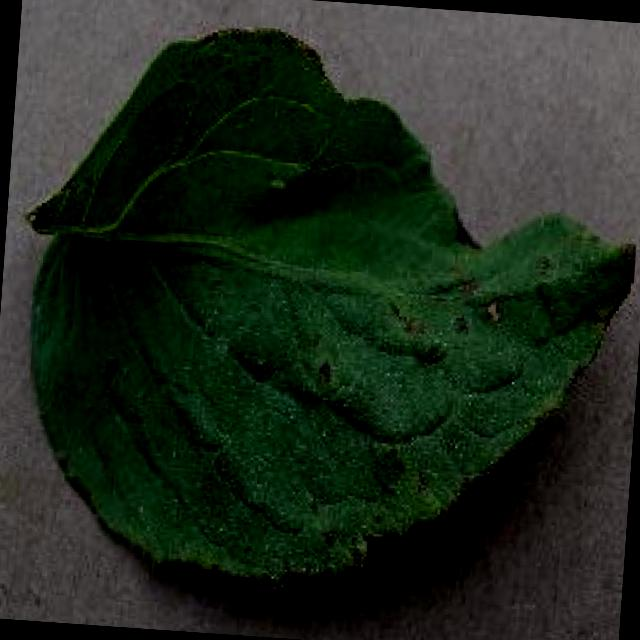bacterial spot: (22, 23, 639, 575)
